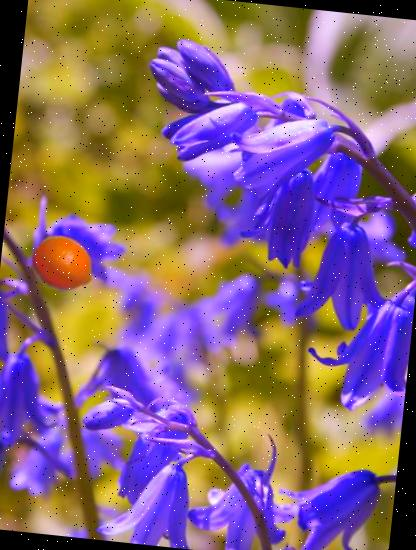Tangelo: (29, 230, 99, 300)
